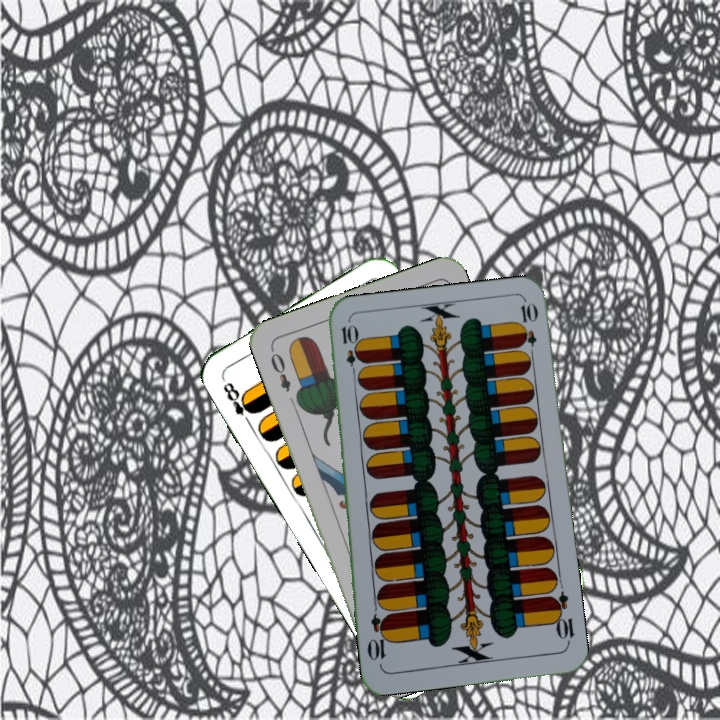E10: (546, 588, 577, 647), (337, 321, 361, 380)
E8: (219, 378, 258, 428)
EO: (266, 344, 294, 395)
